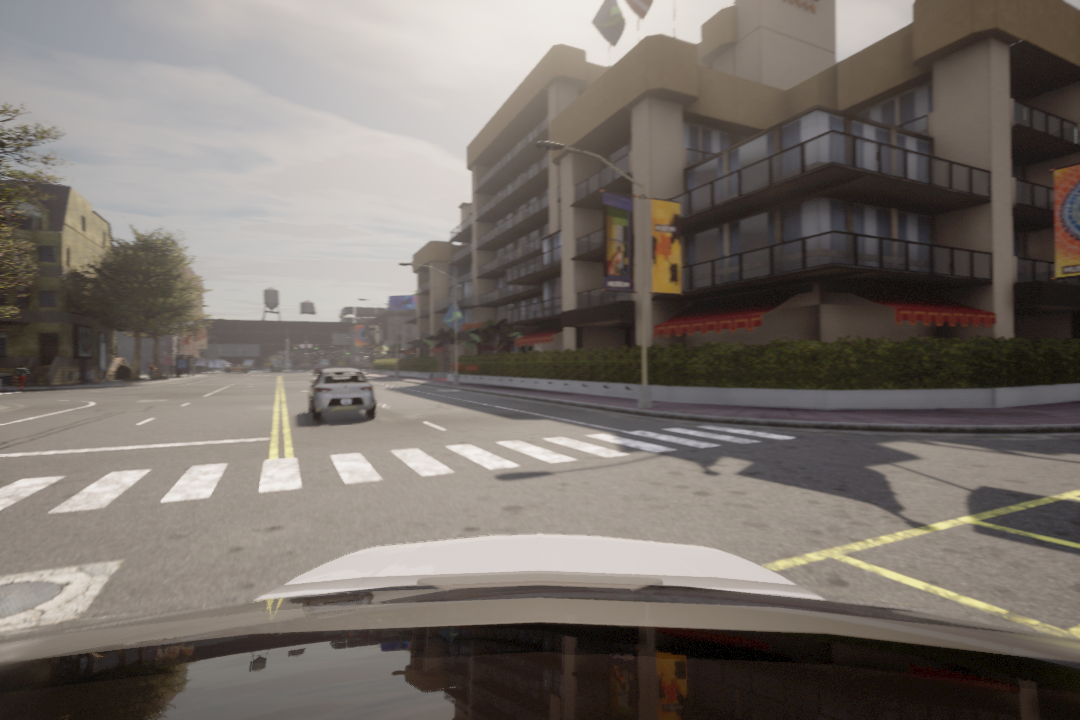walkside: (2, 423, 831, 515)
